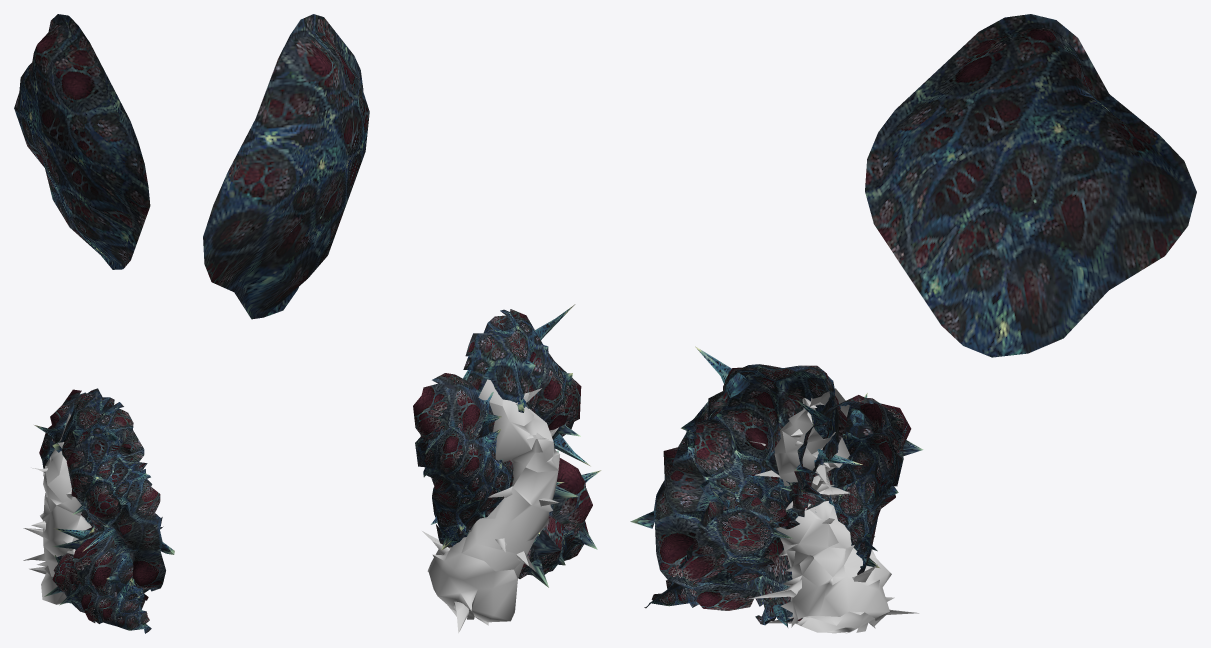
The model's file is 02_Makaijyua_02.fbx.
3 renders of one model, left to right at view 1: azimuth 30°, elevation 25°; view 2: azimuth 150°, elevation 25°; view 3: azimuth 270°, elevation 25°, orthographic. The views are drawn at different scales.
Visible parts, largest first — view 1: LODGroup_3_MainMesh_1_SubMesh_1, LODGroup_3_MainMesh_1_SubMesh_2, LODGroup_3_MainMesh_1_SubMesh_3; view 2: LODGroup_3_MainMesh_1_SubMesh_1, LODGroup_3_MainMesh_1_SubMesh_3, LODGroup_3_MainMesh_1_SubMesh_2; view 3: LODGroup_3_MainMesh_1_SubMesh_1, LODGroup_3_MainMesh_1_SubMesh_2, LODGroup_3_MainMesh_1_SubMesh_3.
Part boxes in pixels (x1=…): LODGroup_3_MainMesh_1_SubMesh_1: x1=14, y1=14, x2=174, y2=633; LODGroup_3_MainMesh_1_SubMesh_2: x1=34, y1=388, x2=165, y2=630; LODGroup_3_MainMesh_1_SubMesh_3: x1=23, y1=413, x2=91, y2=604; LODGroup_3_MainMesh_1_SubMesh_1: x1=203, y1=14, x2=580, y2=575; LODGroup_3_MainMesh_1_SubMesh_3: x1=422, y1=379, x2=559, y2=633; LODGroup_3_MainMesh_1_SubMesh_2: x1=413, y1=304, x2=601, y2=587; LODGroup_3_MainMesh_1_SubMesh_1: x1=630, y1=14, x2=1196, y2=624; LODGroup_3_MainMesh_1_SubMesh_2: x1=653, y1=346, x2=923, y2=627; LODGroup_3_MainMesh_1_SubMesh_3: x1=748, y1=388, x2=918, y2=633.
Size of the model in its own units: 461 by 1469 by 1128.
